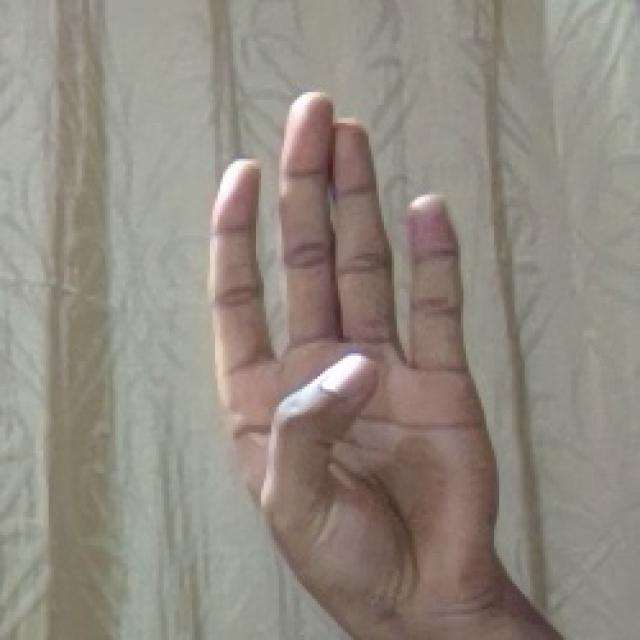Numeric-4: (207, 84, 503, 598)
